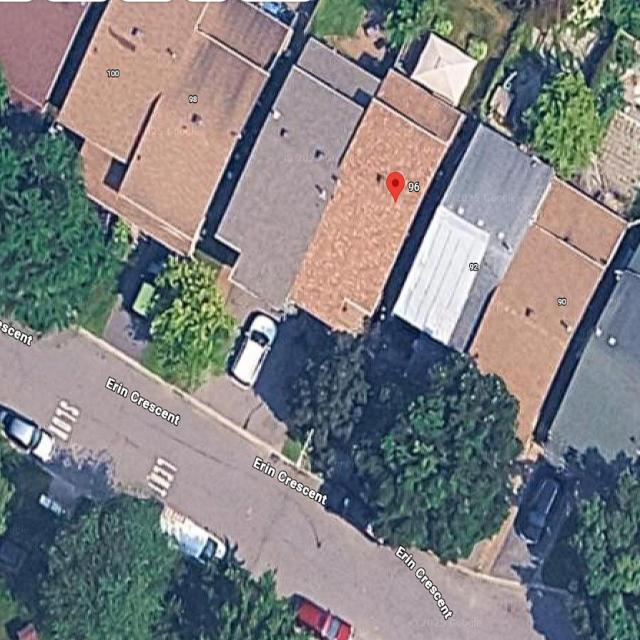Building: (215, 36, 468, 342)
boundaryof property: (143, 0, 526, 470)
obstacle: (226, 311, 277, 387)
walkways: (192, 276, 336, 451)
